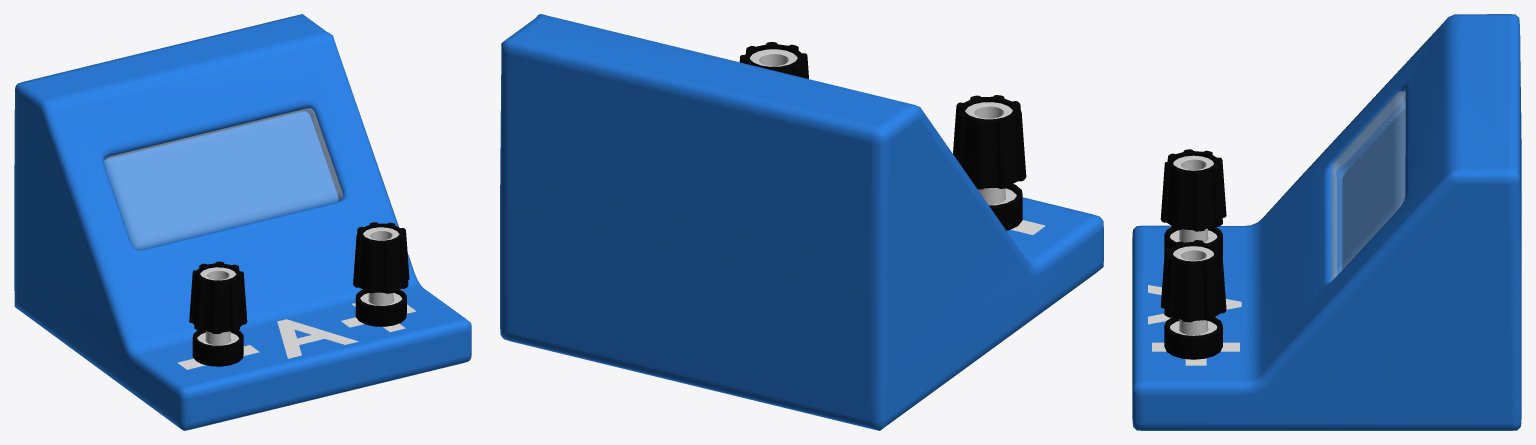
Rendered from Ammeter.fbx.
The picture shows the model from 3 angles, left to right: view 1: azimuth 30°, elevation 25°; view 2: azimuth 150°, elevation 25°; view 3: azimuth 270°, elevation 25°; orthographic projection. The views are drawn at different scales.
Parts seen in each view (by area): view 1: Resistor.013, Cylinder.092, Cylinder.091, Text; view 2: Resistor.013, Cylinder.092, Cylinder.091; view 3: Resistor.013, Cylinder.092, Cylinder.091, Text.002, Text.
Part boxes in pixels (<box>): Resistor.013: <box>14,14,471,430</box>; Cylinder.092: <box>189,222,409,345</box>; Cylinder.091: <box>192,289,406,366</box>; Text: <box>277,319,358,358</box>; Resistor.013: <box>500,14,1103,430</box>; Cylinder.092: <box>739,42,1026,204</box>; Cylinder.091: <box>989,184,1022,230</box>; Resistor.013: <box>1132,14,1521,430</box>; Cylinder.092: <box>1160,149,1226,335</box>; Cylinder.091: <box>1164,226,1222,359</box>; Text.002: <box>1152,342,1239,365</box>; Text: <box>1148,285,1241,324</box>.
Size of the model in its own units: 172 by 128 by 174.
